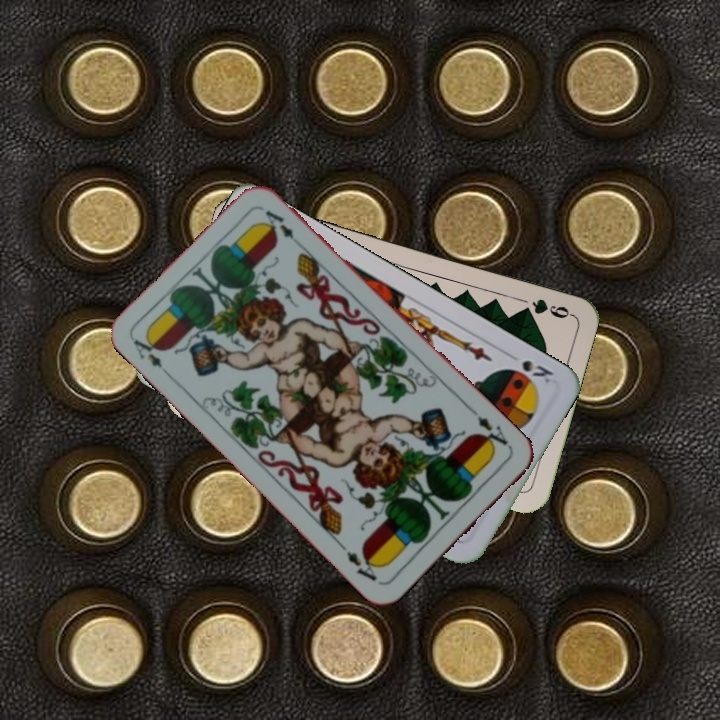EA: (467, 405, 514, 453), (129, 331, 175, 379)
G9: (528, 294, 574, 321)
SK: (517, 356, 556, 386)
